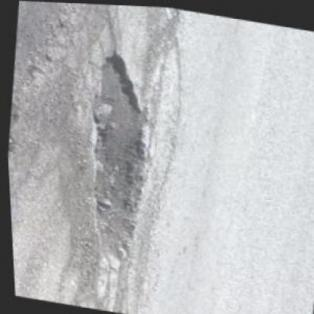Hueco: (70, 46, 172, 263)
